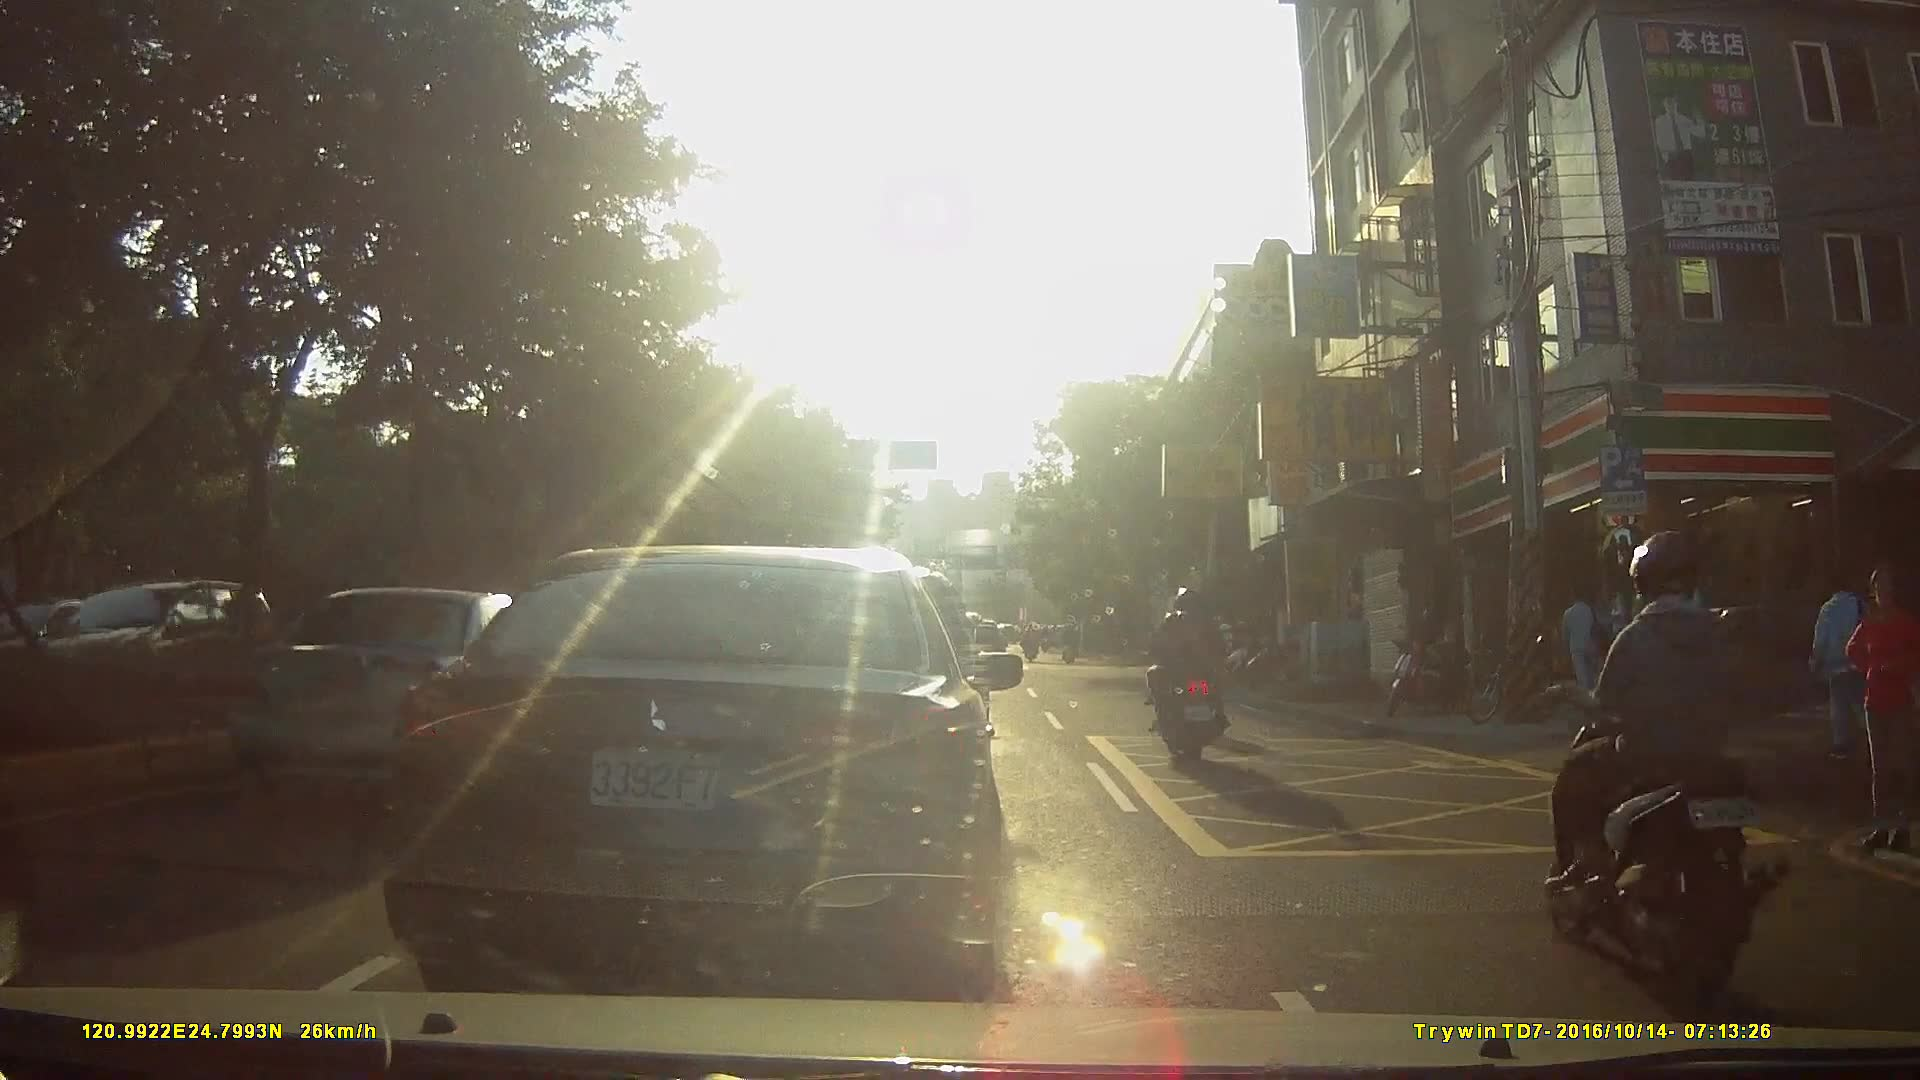pedestrian: (1842, 567, 1920, 854), (1805, 572, 1874, 769), (1556, 579, 1608, 715), (1610, 574, 1655, 708), (1664, 569, 1707, 699), (1650, 569, 1689, 707)
rider: (1549, 530, 1793, 1007), (1148, 587, 1231, 766), (1060, 619, 1082, 664), (1022, 619, 1043, 666)
vehicle: (381, 540, 1038, 984), (211, 579, 600, 815), (28, 577, 269, 716)
